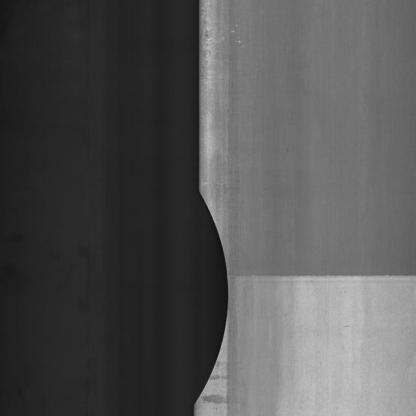crescent_gap: (182, 181, 238, 416)
welding_line: (204, 258, 412, 293)
